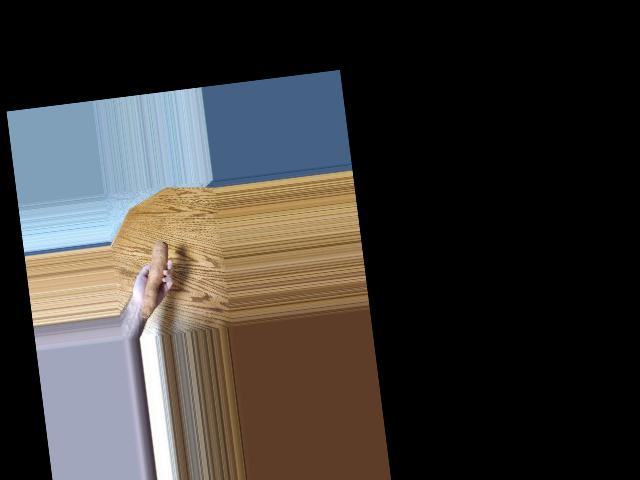sweet_potato: (132, 239, 177, 317)
